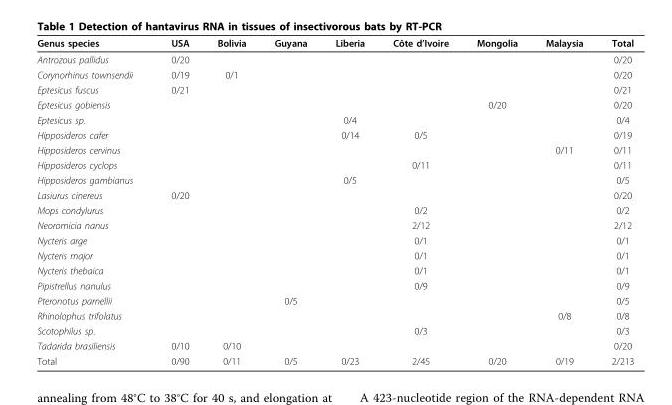table: (36, 36, 633, 366)
table column: (36, 36, 151, 366), (378, 36, 462, 366), (462, 36, 531, 366), (531, 36, 596, 366), (259, 36, 320, 366), (320, 36, 378, 366), (202, 36, 259, 366), (151, 36, 202, 366), (596, 36, 633, 366)
table column header: (36, 36, 633, 50)
table row: (36, 50, 633, 66), (36, 96, 633, 112), (36, 337, 633, 353), (36, 66, 633, 81), (36, 81, 633, 96), (36, 112, 633, 127), (36, 127, 633, 142), (36, 142, 633, 157), (36, 157, 633, 172), (36, 172, 633, 187), (36, 187, 633, 202), (36, 202, 633, 217), (36, 217, 633, 232), (36, 232, 633, 247), (36, 247, 633, 262), (36, 262, 633, 277), (36, 277, 633, 292), (36, 292, 633, 307), (36, 307, 633, 322), (36, 322, 633, 337), (36, 36, 633, 50), (36, 353, 633, 366)
